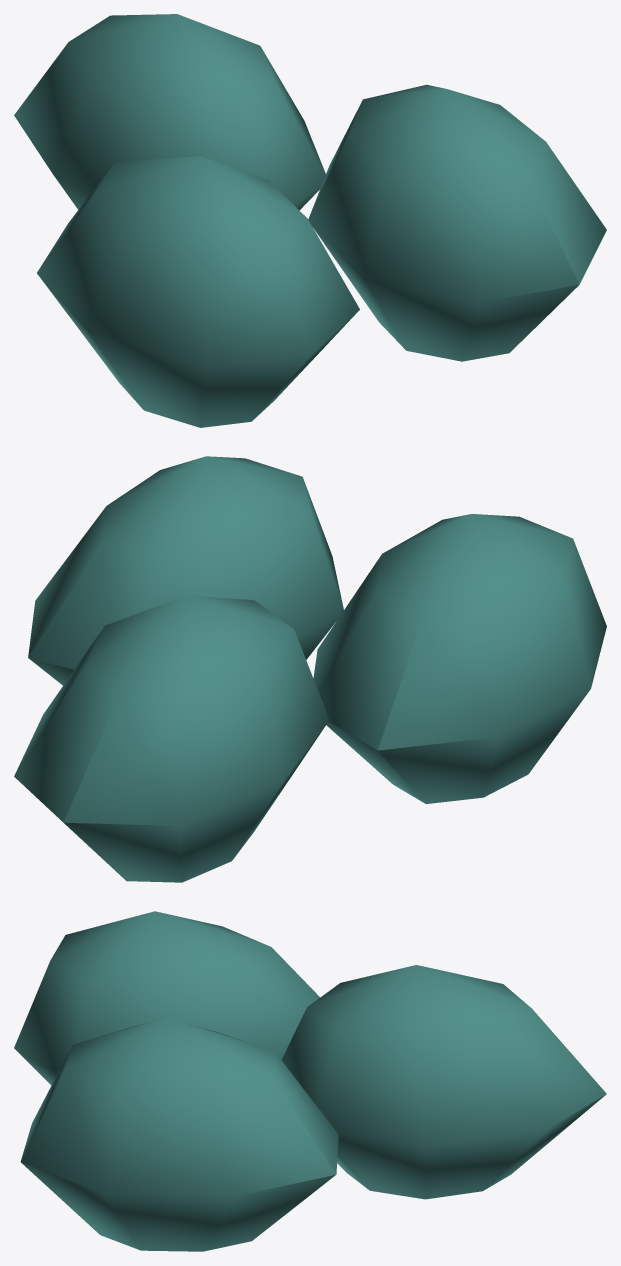
File: food_agave_b.obj
3 renders of one model, top to bottom at view 1: azimuth 30°, elevation 25°; view 2: azimuth 150°, elevation 25°; view 3: azimuth 270°, elevation 25°, orthographic. The views are drawn at different scales.
Visible parts, largest first — view 1: agave_1, agave_2, agave_3; view 2: agave_1, agave_3, agave_2; view 3: agave_2, agave_3, agave_1.
Boxes of the visible parts, x1,y1,x2,y2 form: agave_1: [37, 156, 359, 427]; agave_2: [308, 84, 606, 361]; agave_3: [14, 14, 325, 210]; agave_1: [313, 514, 606, 803]; agave_3: [14, 595, 328, 882]; agave_2: [28, 456, 343, 685]; agave_2: [20, 1017, 338, 1251]; agave_3: [281, 965, 606, 1199]; agave_1: [14, 911, 319, 1085].
Size of the model in its own units: 0.1942 by 0.09 by 0.2328.
